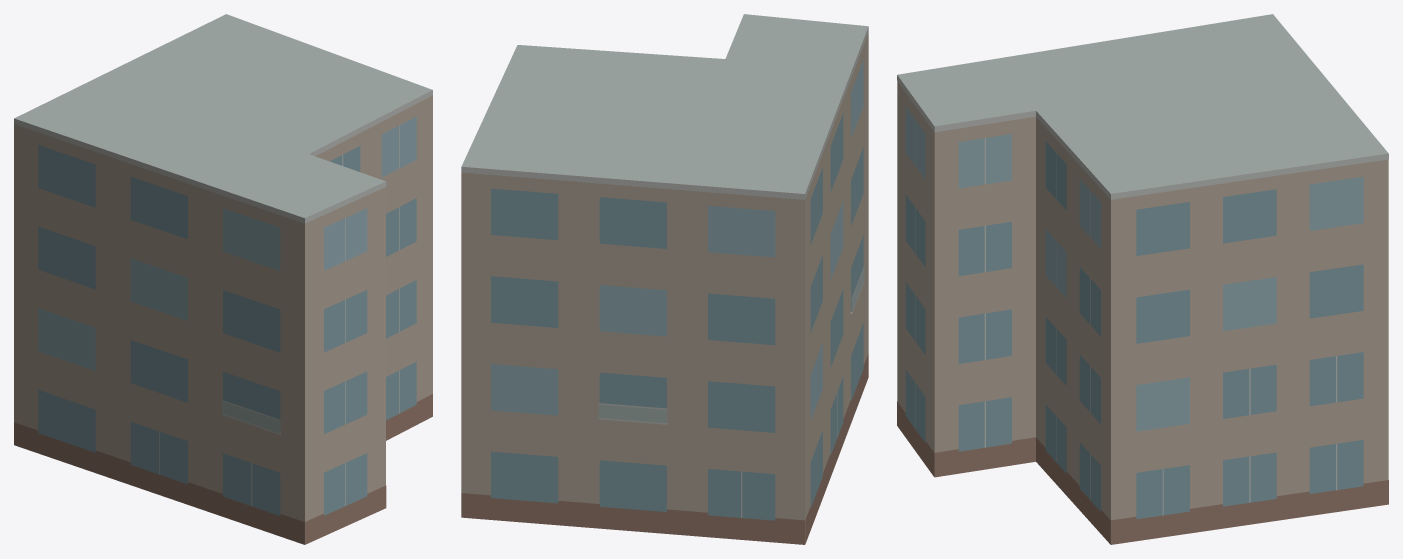
File: survey-upis-33036675.glb
The picture shows the model from 3 angles, left to right: view 1: azimuth 30°, elevation 25°; view 2: azimuth 150°, elevation 25°; view 3: azimuth 270°, elevation 25°; orthographic projection. The views are drawn at different scales.
Visible parts, largest first — view 1: survey-upis-33036675.tmp; view 2: survey-upis-33036675.tmp; view 3: survey-upis-33036675.tmp.
Part boxes in pixels (<box>): survey-upis-33036675.tmp: <box>14,14,432,544</box>; survey-upis-33036675.tmp: <box>461,14,868,544</box>; survey-upis-33036675.tmp: <box>897,14,1388,544</box>.
Bounding box in the file's own units: 16.07 × 14.6 × 18.55.
